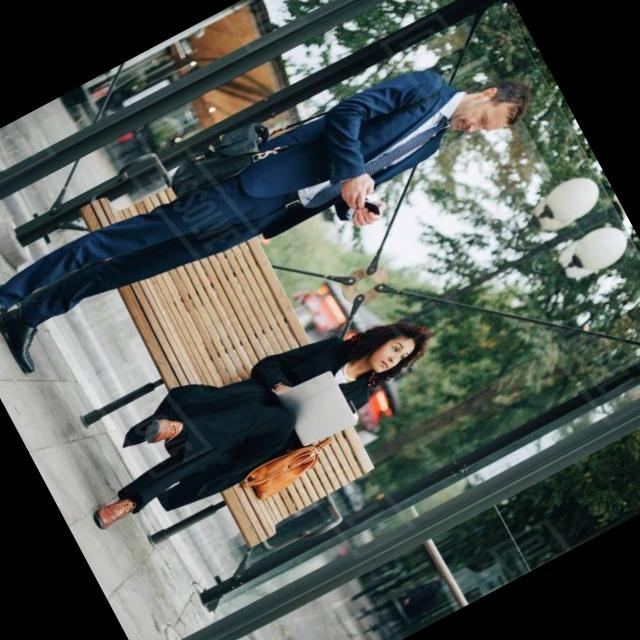bareface: (445, 90, 516, 147), (362, 336, 415, 380)
